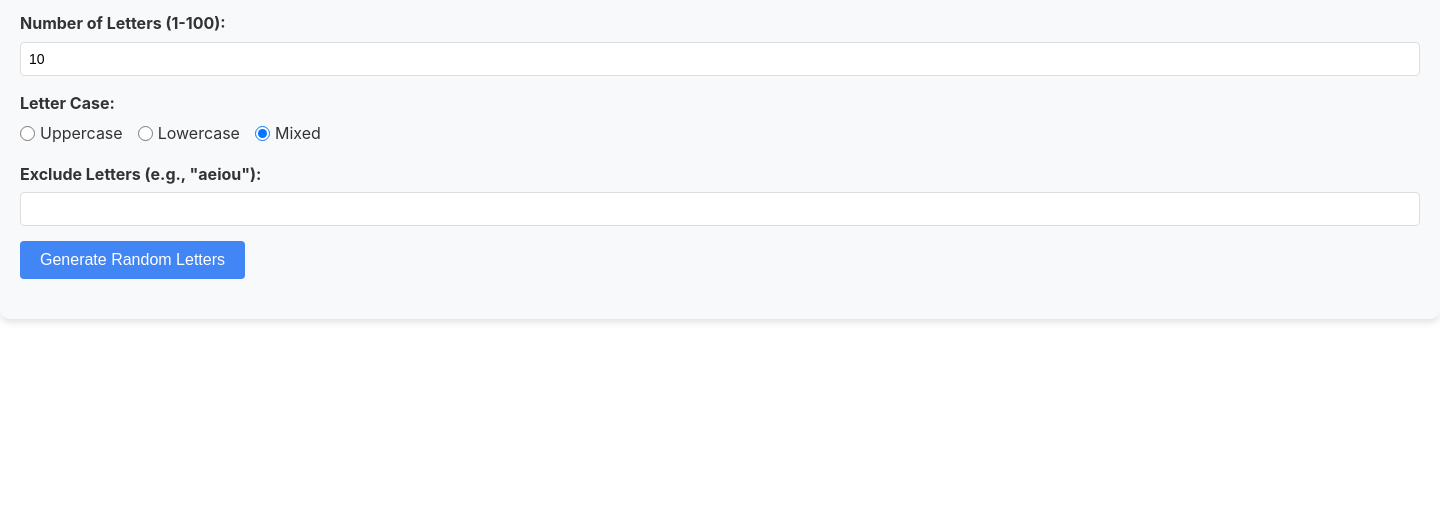
RandomLetterGenerator › handles excluded letters
# Set excluded letters to all vowels
In the field labelled "Exclude Letters (e.g., \"aeiou\"):": {"x": 720, "y": 209} [20,192,1420,226], type "aeiou"
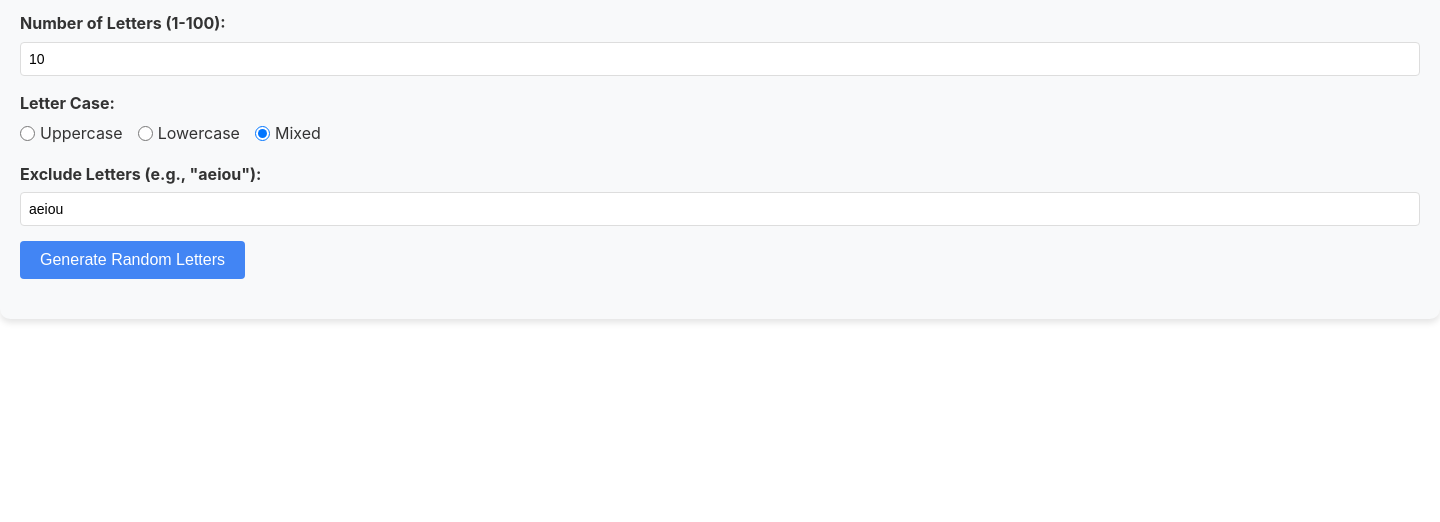
# Generate letters
Click the button "Generate Random Letters": {"x": 132, "y": 260} [20,241,245,279]
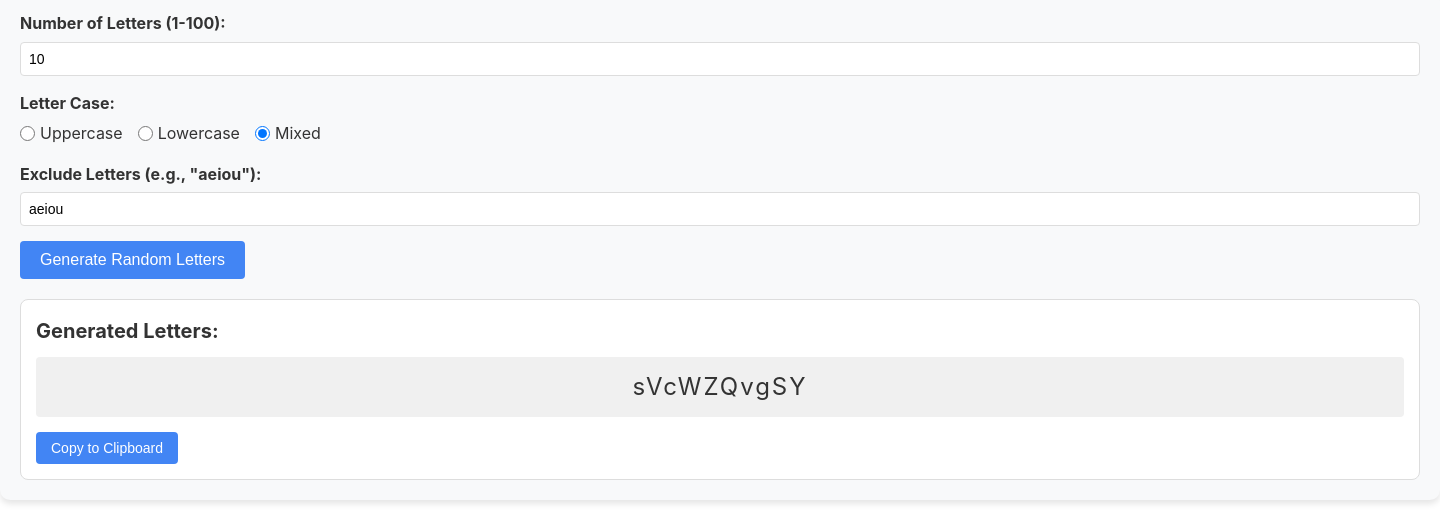
Expected: the heading "Generated Letters:" is shown, [36,319,219,343]
